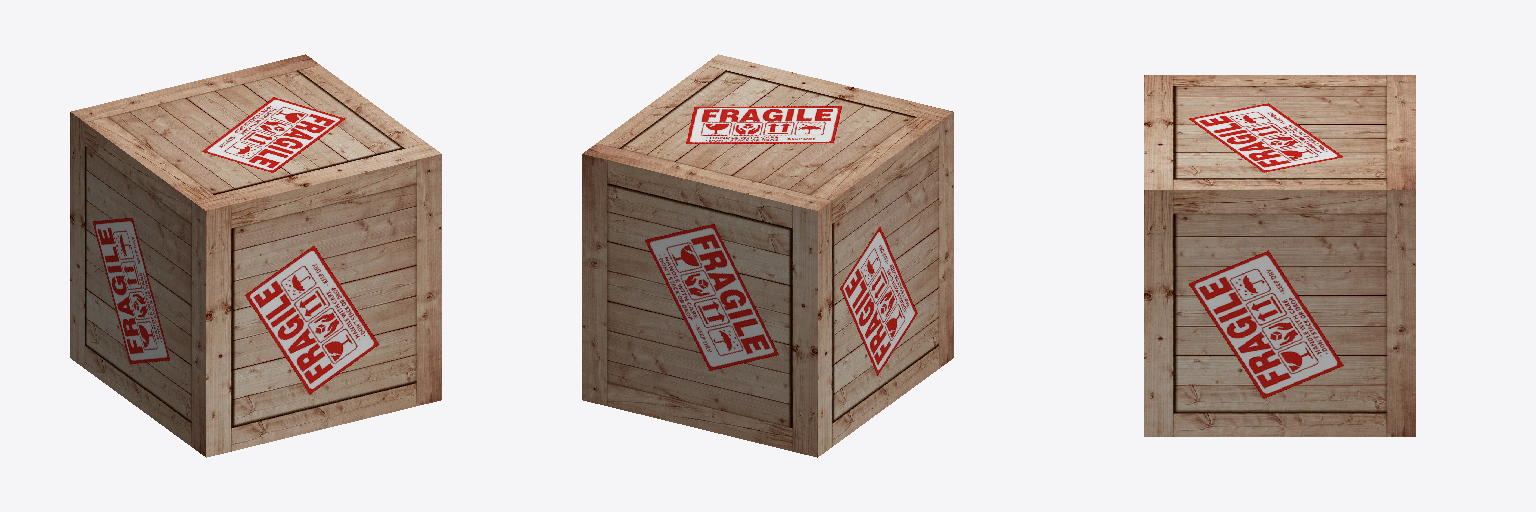
The picture shows the model from 3 angles: view 1: azimuth 30°, elevation 25°; view 2: azimuth 150°, elevation 25°; view 3: azimuth 270°, elevation 25°; orthographic projection.
Parts seen in each view (by area): view 1: Cube.002; view 2: Cube.002; view 3: Cube.002.
Part boxes in pixels (bbox=[...]): Cube.002: bbox=[70, 54, 441, 457]; Cube.002: bbox=[582, 54, 953, 457]; Cube.002: bbox=[1144, 75, 1415, 436].
Size of the model in its own units: 20.69 by 20.69 by 20.69.
Materials: 1 (1 with a texture image).